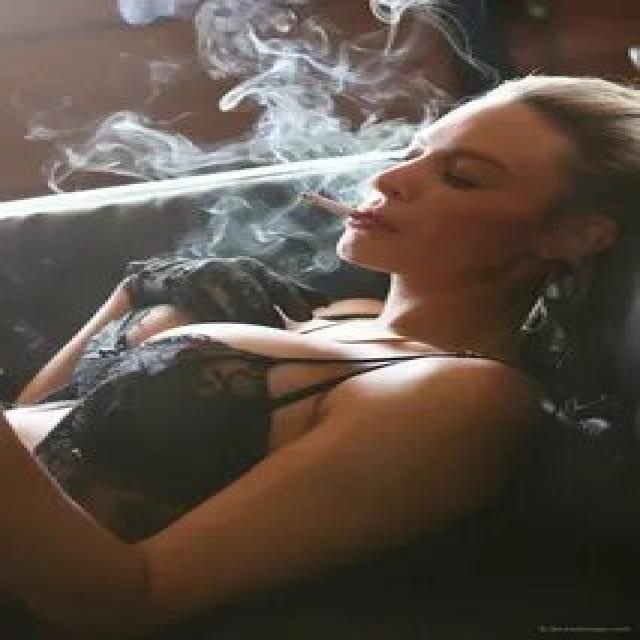smoke: (292, 180, 382, 230)
